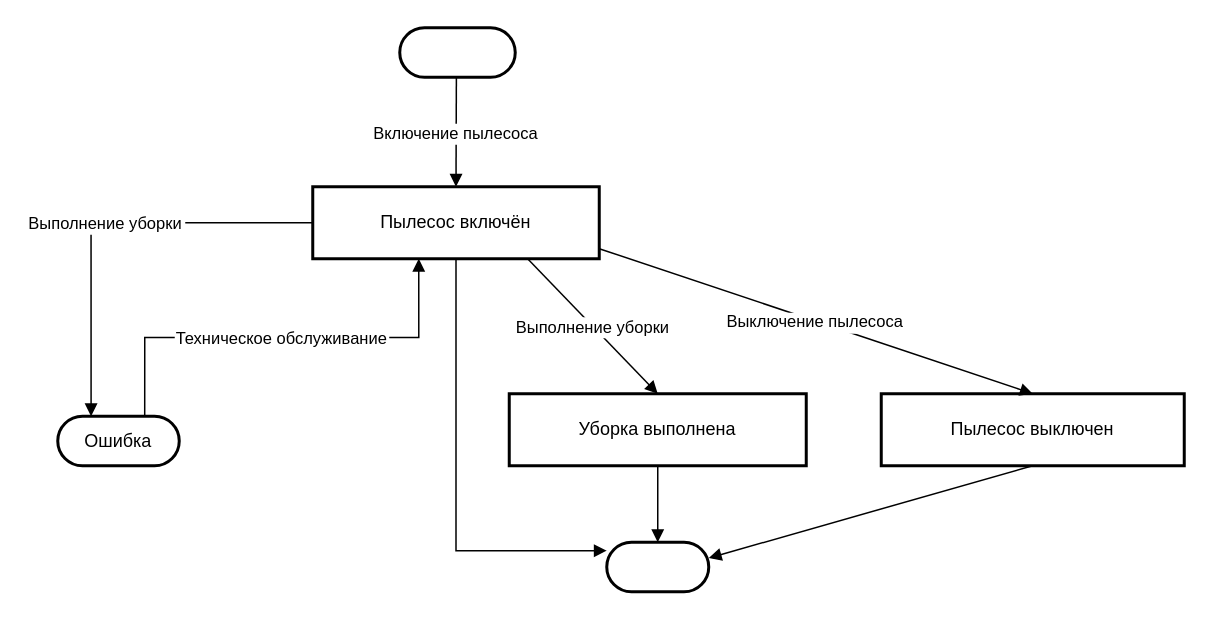
This 1211x618 diagram has some shape labels left out. Each missing label, with the centre of its shape:
Конец: the point at 657,566
Начало: the point at 457,52
